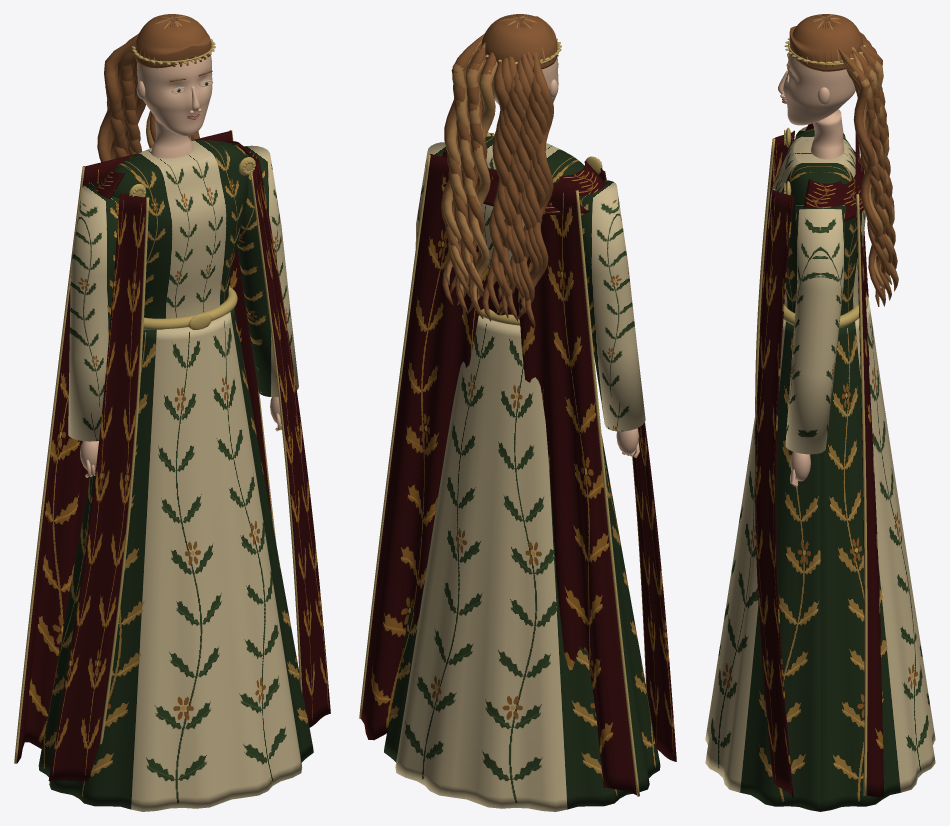
Rendered from princess-v8-standing.glb.
The picture shows the model from 3 angles, left to right: view 1: azimuth 30°, elevation 25°; view 2: azimuth 150°, elevation 25°; view 3: azimuth 270°, elevation 25°; orthographic projection.
Visible parts, largest first — view 1: MorrisPrincess_surface, cape_surface, body_surface, head_surface, armL_surface, armR_surface; view 2: MorrisPrincess_surface, cape_surface, head_surface, armL_surface, body_surface; view 3: MorrisPrincess_surface, cape_surface, head_surface, armR_surface, body_surface.
Part boxes in pixels (left/top/right/bottom): MorrisPrincess_surface: left=38, top=308, right=313, bottom=811; cape_surface: left=14, top=130, right=330, bottom=781; body_surface: left=112, top=116, right=255, bottom=329; head_surface: left=97, top=14, right=215, bottom=162; armL_surface: left=68, top=183, right=119, bottom=477; armR_surface: left=237, top=145, right=298, bottom=431; MorrisPrincess_surface: left=384, top=315, right=660, bottom=811; cape_surface: left=359, top=133, right=676, bottom=796; head_surface: left=441, top=14, right=561, bottom=326; armL_surface: left=579, top=180, right=645, bottom=457; body_surface: left=481, top=132, right=602, bottom=325; MorrisPrincess_surface: left=705, top=297, right=935, bottom=811; cape_surface: left=755, top=123, right=883, bottom=797; head_surface: left=778, top=14, right=898, bottom=306; armR_surface: left=785, top=203, right=845, bottom=487; body_surface: left=770, top=109, right=867, bottom=328.
Bounding box in the file's own units: 0.6502 × 1.66 × 0.4649.
Materials: 10 (2 with a texture image).
